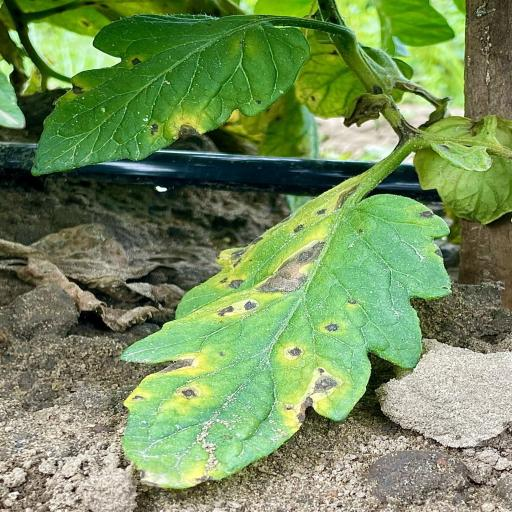disease_tomato: (115, 191, 458, 491), (30, 14, 308, 174)
